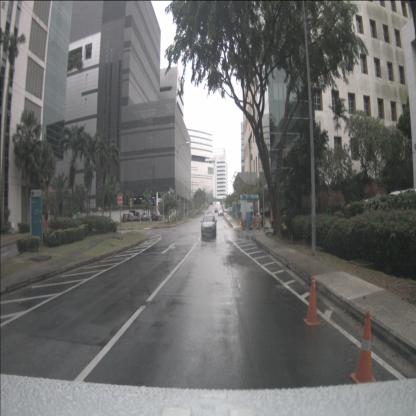movable_object-trafficcone: (350, 311, 377, 387), (304, 277, 321, 327)
vehicle-car: (201, 214, 216, 237), (151, 211, 160, 221), (123, 214, 132, 223), (141, 213, 150, 222), (218, 207, 223, 216), (207, 210, 212, 218)
vehicle-truck: (129, 210, 141, 222)
